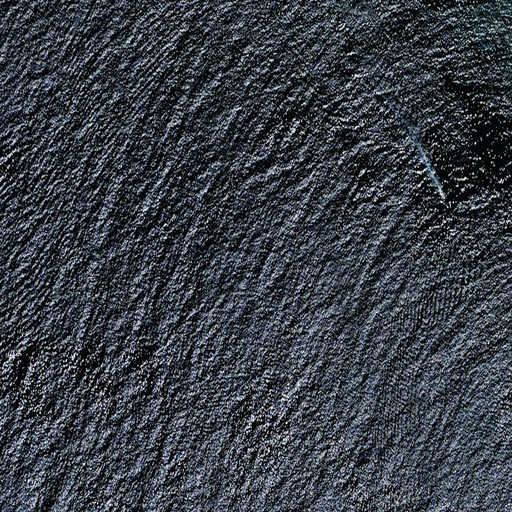ship: (439, 193, 446, 199)
